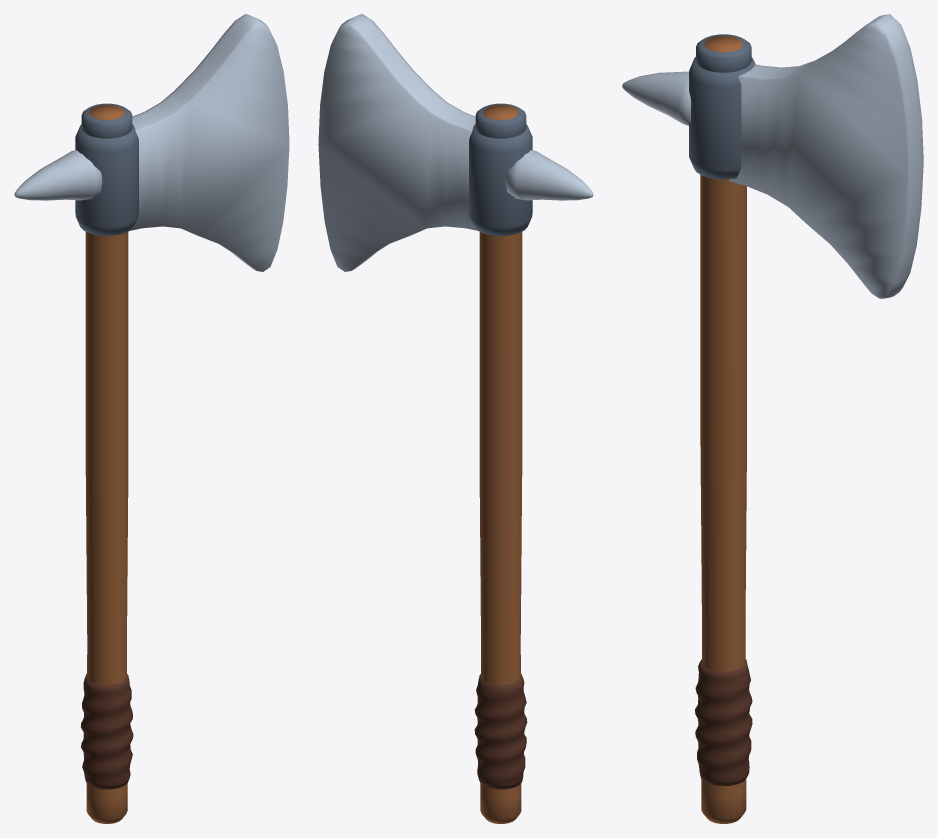
The model's file is arma-hacha.glb.
The picture shows the model from 3 angles, left to right: view 1: azimuth 30°, elevation 25°; view 2: azimuth 150°, elevation 25°; view 3: azimuth 330°, elevation 25°; orthographic projection. The views are drawn at different scales.
Parts seen in each view (by area): view 1: arma-hacha; view 2: arma-hacha; view 3: arma-hacha.
Boxes of the visible parts, x1,y1,x2,y2 form: arma-hacha: [14, 14, 289, 823]; arma-hacha: [318, 14, 593, 823]; arma-hacha: [622, 14, 923, 823].
Bounding box in the file's own units: 0.3803 × 1.03 × 0.078.
